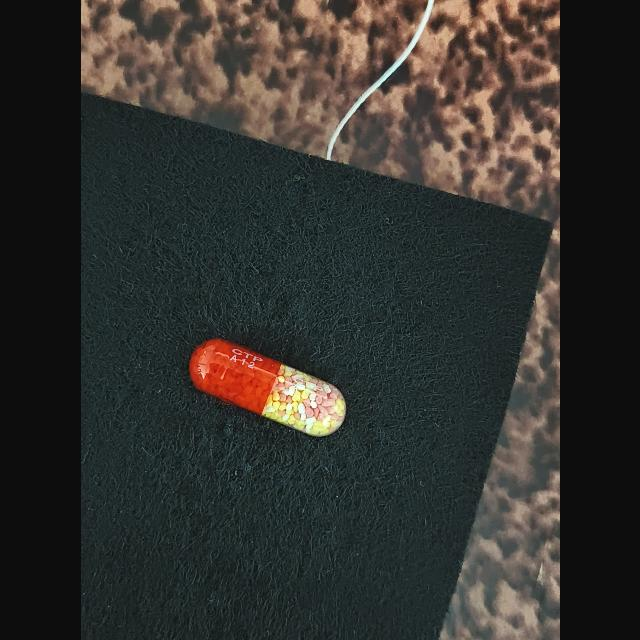Intact Capsule: (188, 339, 346, 436)
